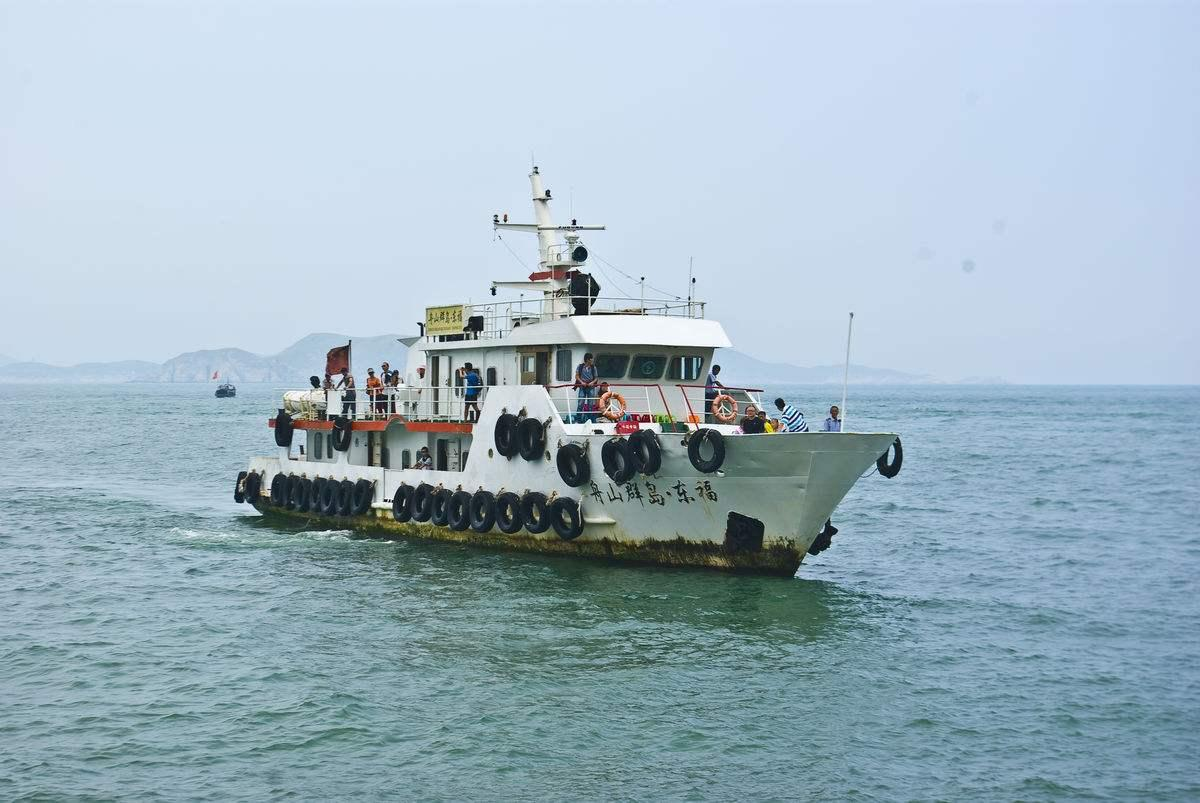otherboat: (209, 164, 950, 564)
